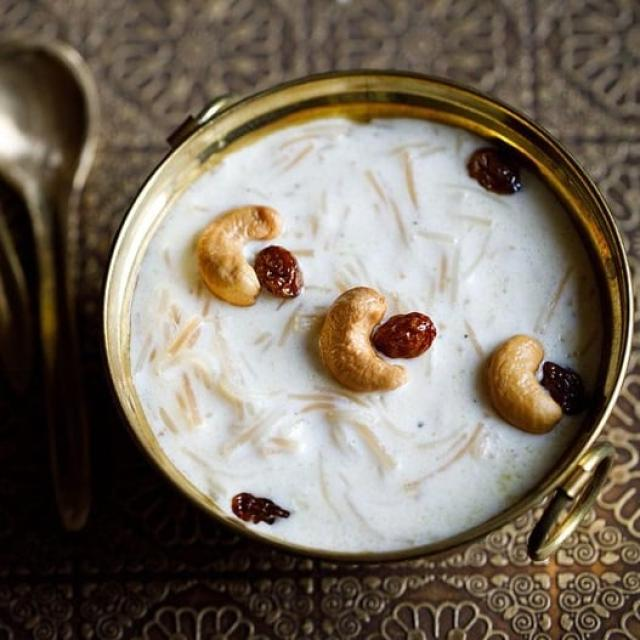shavige payasa: (99, 91, 621, 565)
